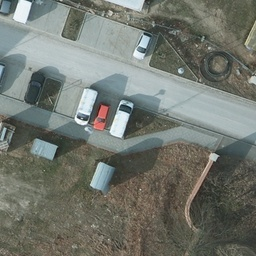car: (23, 73, 44, 103), (92, 100, 109, 133), (133, 34, 151, 61), (1, 1, 22, 16), (1, 62, 5, 96)
van: (74, 83, 97, 126), (110, 98, 131, 139), (8, 1, 42, 25)
